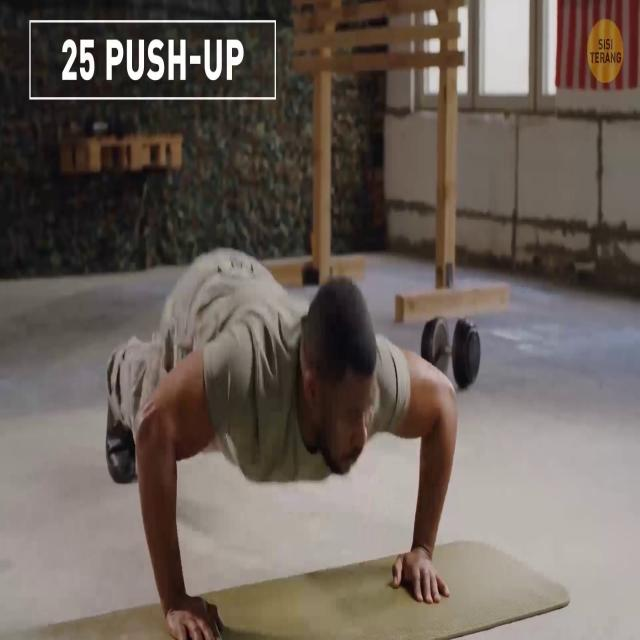Push up: (67, 200, 482, 640)
